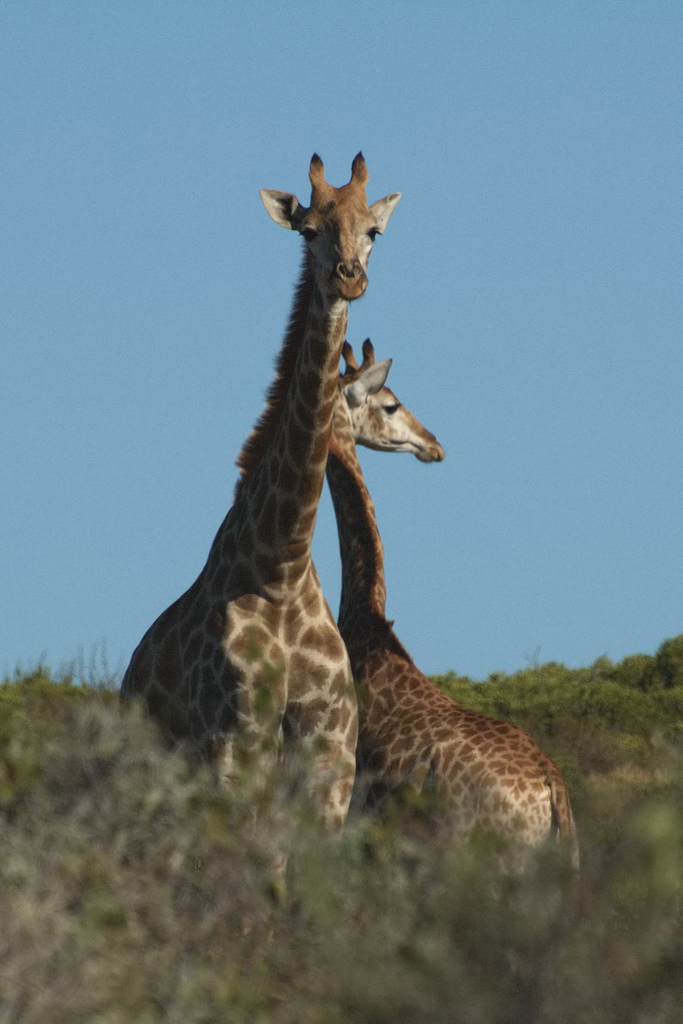giraffe: (129, 145, 392, 859), (302, 323, 607, 893)
